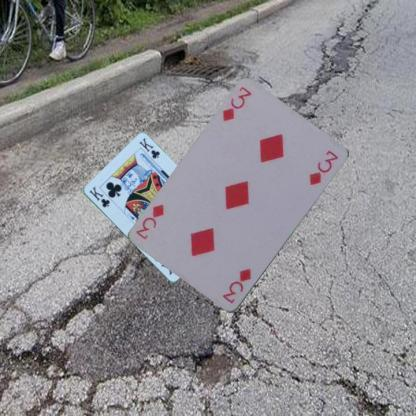3d: (219, 266, 252, 305), (220, 84, 253, 123)
Kc: (86, 184, 111, 208)
